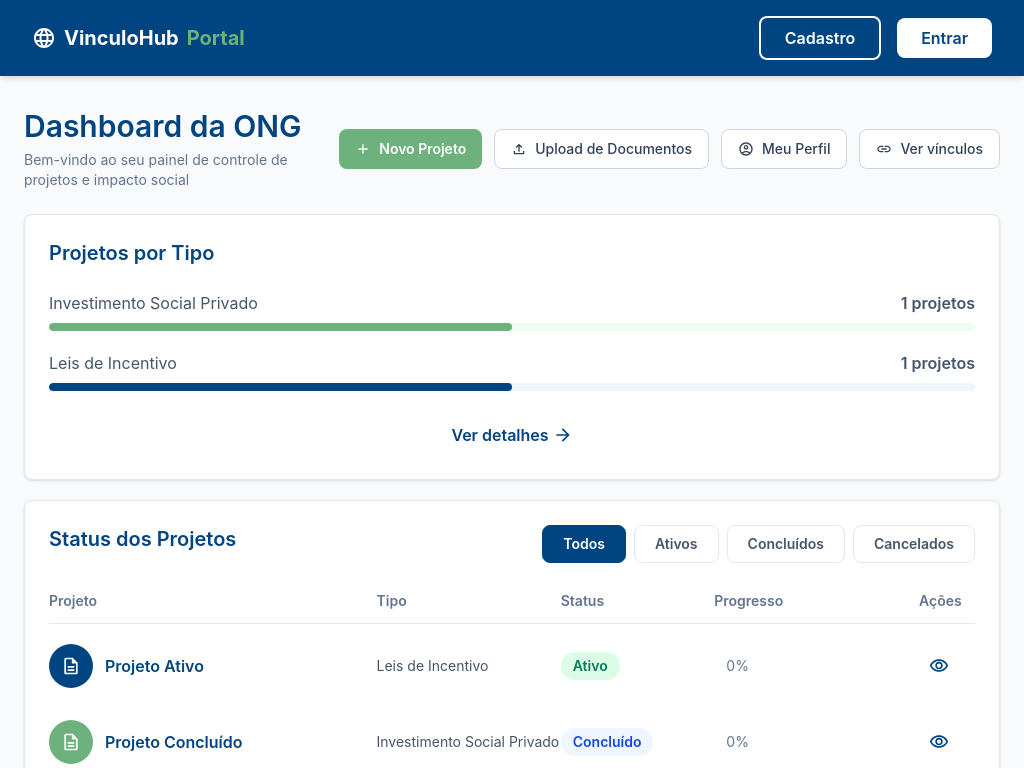
Scenario: RoleHomePage - dashboard da ONG › abre o modal de novo projeto
What coordinates should you click on to do the following:
click the button "Novo Projeto"
I would click on:
 (411, 149)
Its box is [339, 129, 482, 169].
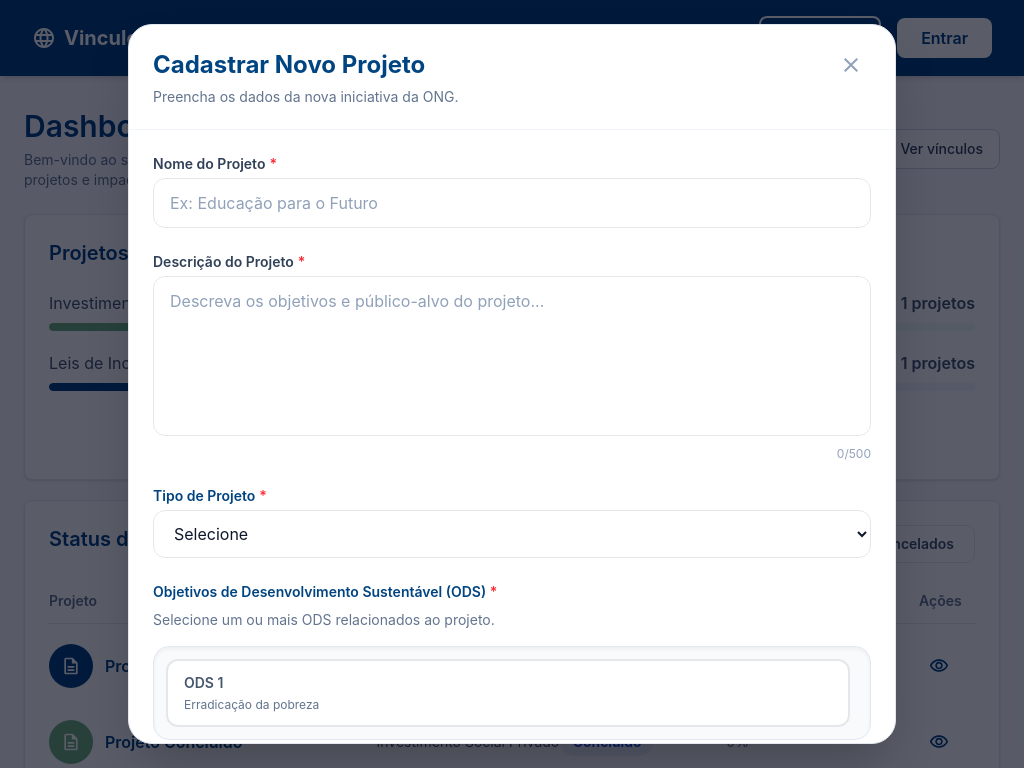
Result: the dialog "Cadastrar Novo Projeto" is shown
